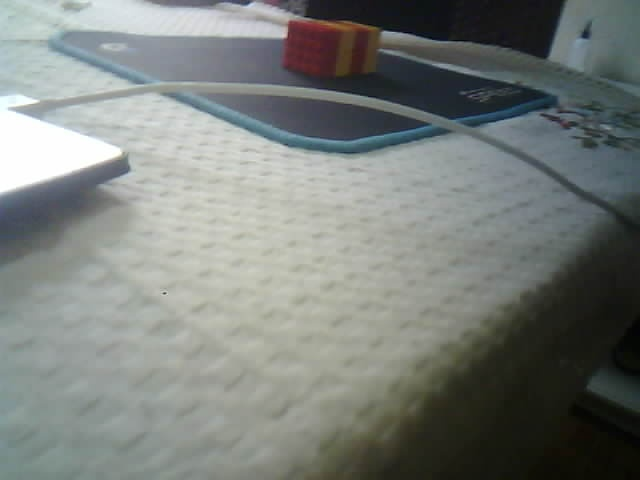lego: (281, 17, 379, 81)
